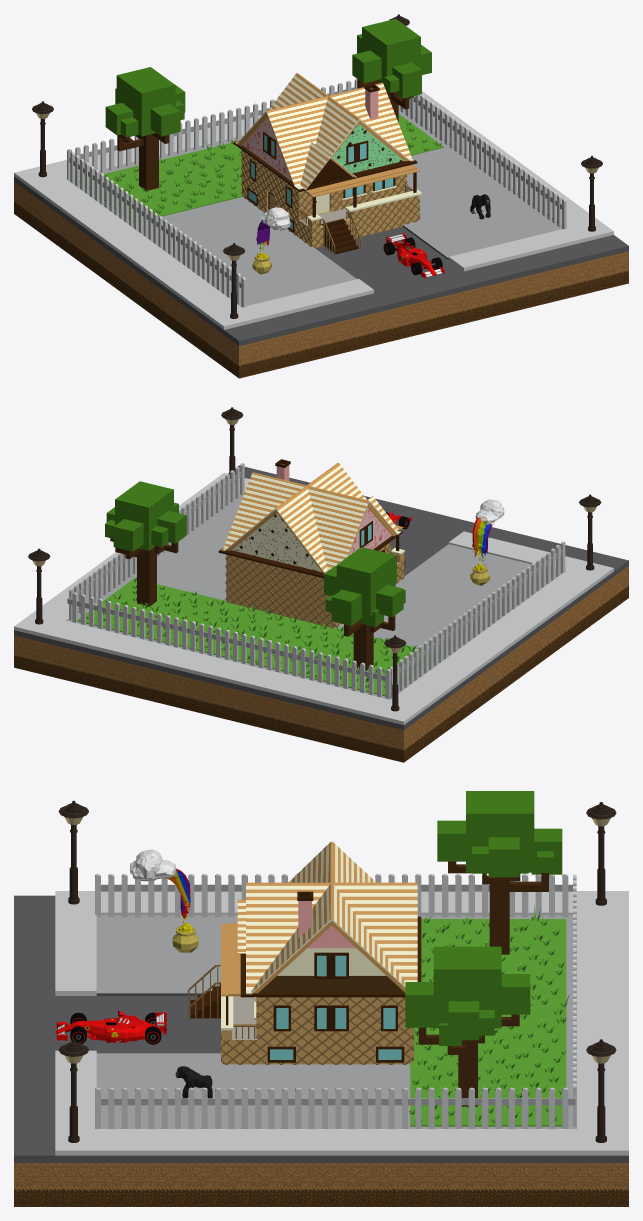
3 renders of one model, top to bottom at view 1: azimuth 30°, elevation 25°; view 2: azimuth 150°, elevation 25°; view 3: azimuth 270°, elevation 25°, orthographic. The views are drawn at different scales.
Parts seen in each view (by area): view 1: Cube.004, Cube.1102, VEHICLES_FORMULA_1, OBJRANDOM_RAINBOW; view 2: Cube.004, Cube.1102, OBJRANDOM_RAINBOW; view 3: Cube.004, Cube.1102, VEHICLES_FORMULA_1, OBJRANDOM_RAINBOW, ANIMAL_GORILA.
Part boxes in pixels (x1=…): Cube.004: x1=14, y1=14, x2=628, y2=378; Cube.1102: x1=233, y1=73, x2=422, y2=255; VEHICLES_FORMULA_1: x1=383, y1=232, x2=444, y2=278; OBJRANDOM_RAINBOW: x1=252, y1=207, x2=290, y2=274; Cube.004: x1=14, y1=407, x2=628, y2=762; Cube.1102: x1=218, y1=459, x2=406, y2=628; OBJRANDOM_RAINBOW: x1=470, y1=499, x2=504, y2=585; Cube.004: x1=14, y1=791, x2=628, y2=1206; Cube.1102: x1=187, y1=841, x2=421, y2=1064; VEHICLES_FORMULA_1: x1=55, y1=1011, x2=166, y2=1044; OBJRANDOM_RAINBOW: x1=129, y1=849, x2=198, y2=952; ANIMAL_GORILA: x1=175, y1=1066, x2=212, y2=1098.
Size of the model in its own units: 4000 by 1609 by 4000.
Materials: 36 (4 with a texture image).
